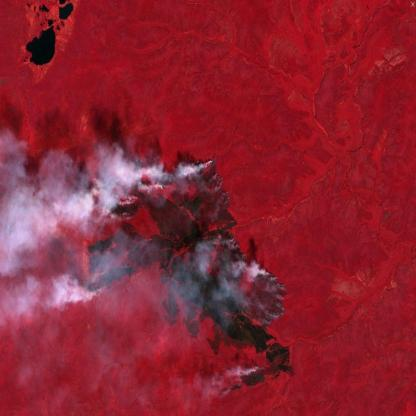fire: (84, 152, 288, 394)
